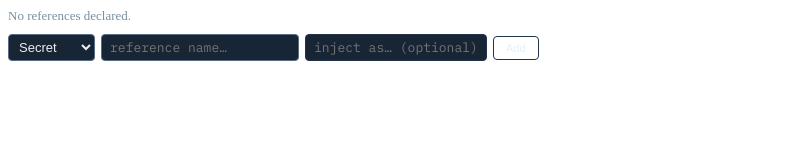
it: alias (RA-1) › previews the destination key while the alias is being typed
Type "BECOME_PASSWORD" into the field with placeholder "inject as… (optional)".
click(396, 48); type("BECOME_PASSWORD")  # box top-left (305, 34), bottom-right (487, 61)
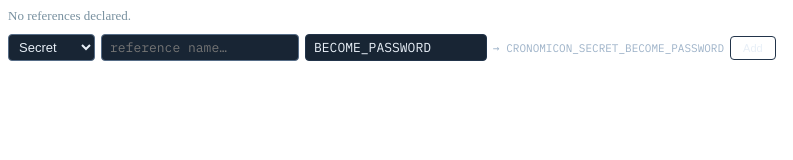
Check: the text "→ CRONOMICON_SECRET_BECOME_PASSWORD" is shown, box top-left (493, 40), bottom-right (724, 54)
